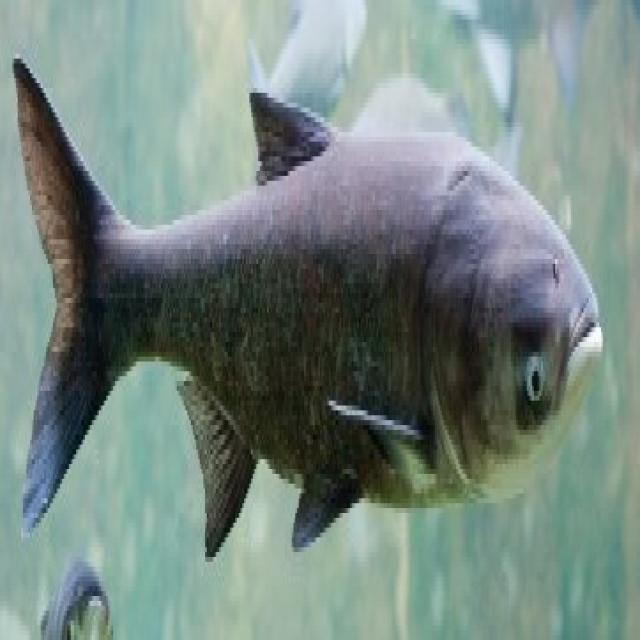Big-Head-Carp: (0, 26, 631, 572)
